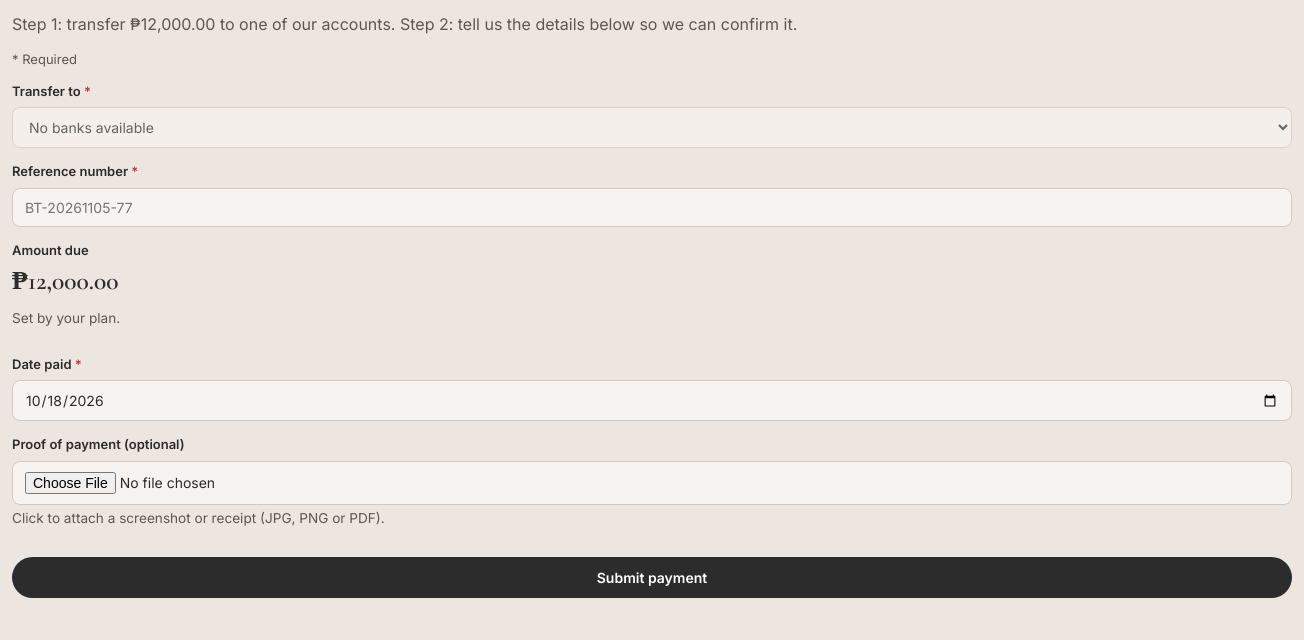
Test: ManualPaymentForm › shows inline validation when no banks are available
The width and height of the screenshot is (1304, 640).
Expected: the dropdown labelled "Transfer to" is disabled, [12,107,1292,148]
Type "BT-2" into the field labelled "Reference number". click: (652, 207)
box: [12,188,1292,226]
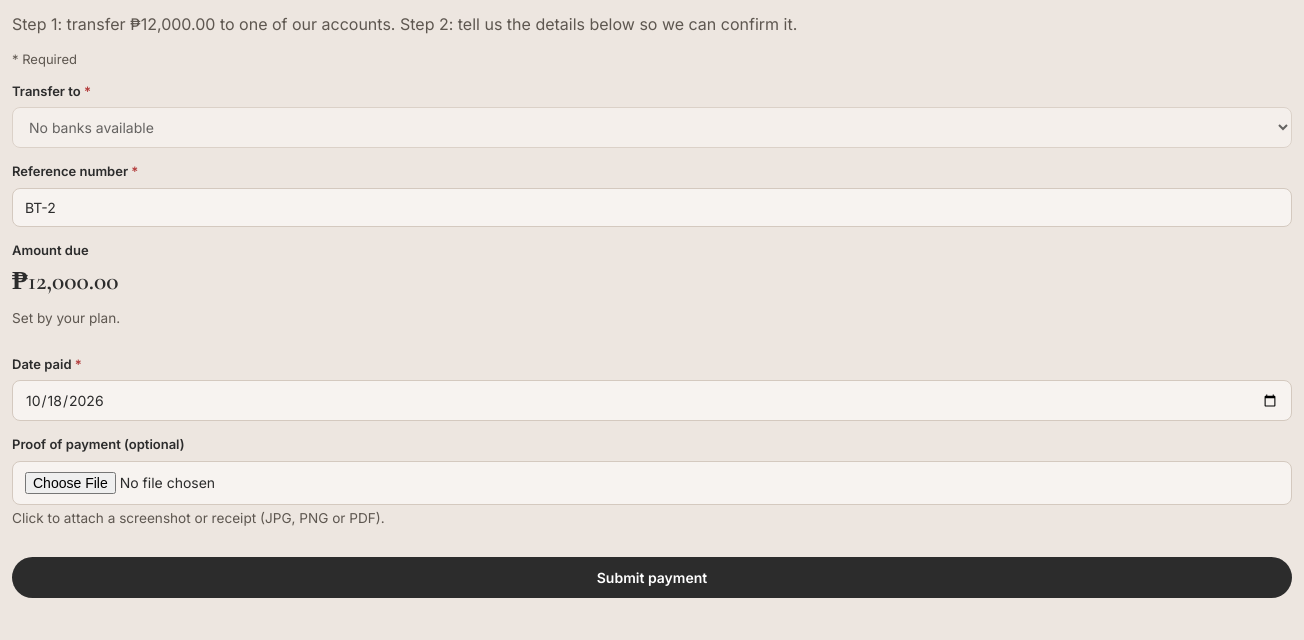
Click the button "Submit payment". click: (652, 577)
box: [12,557,1292,598]
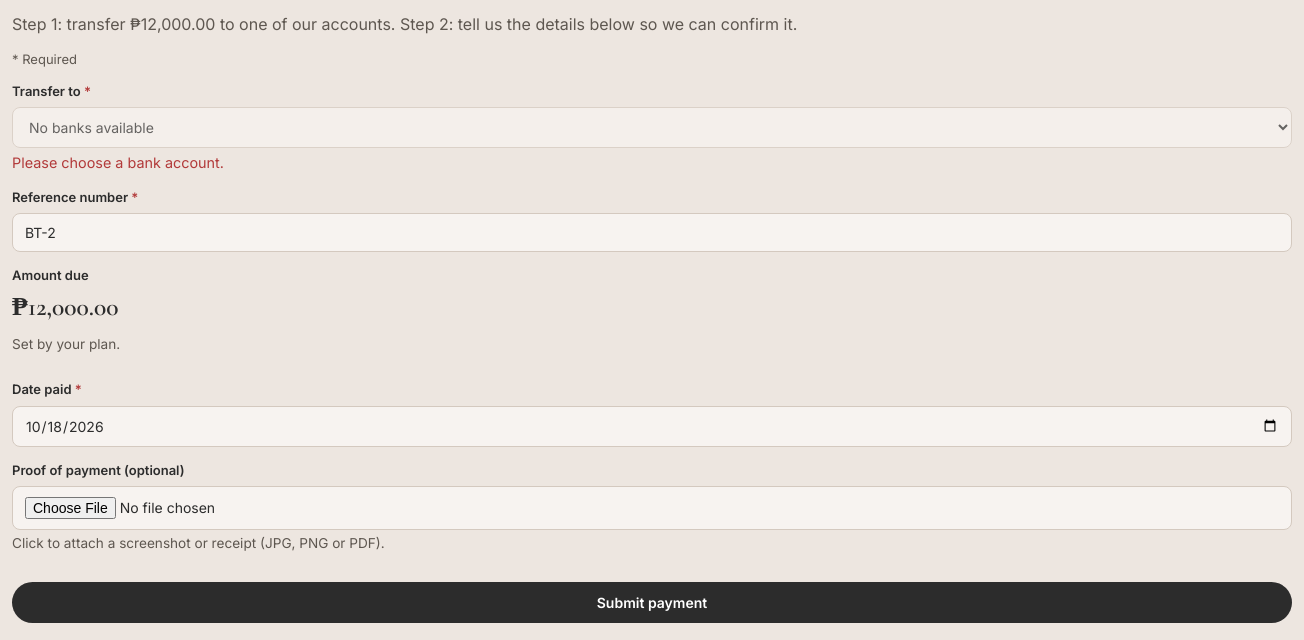
Result: the text "Please choose a bank account." is shown at [12,154,224,171]
